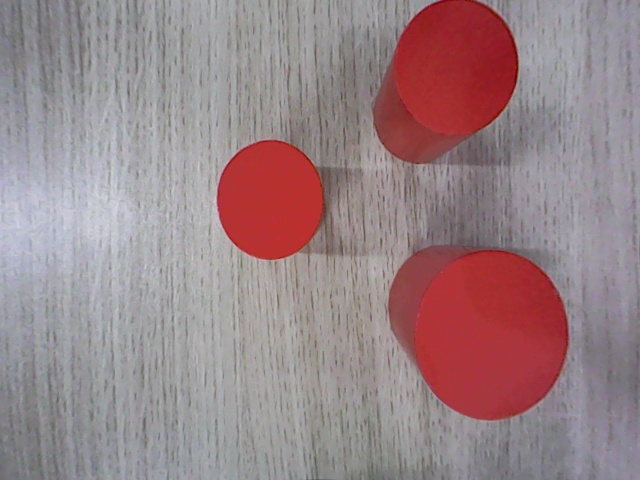upside of cylinder: (416, 250, 569, 420), (395, 0, 520, 135), (216, 139, 326, 261)
